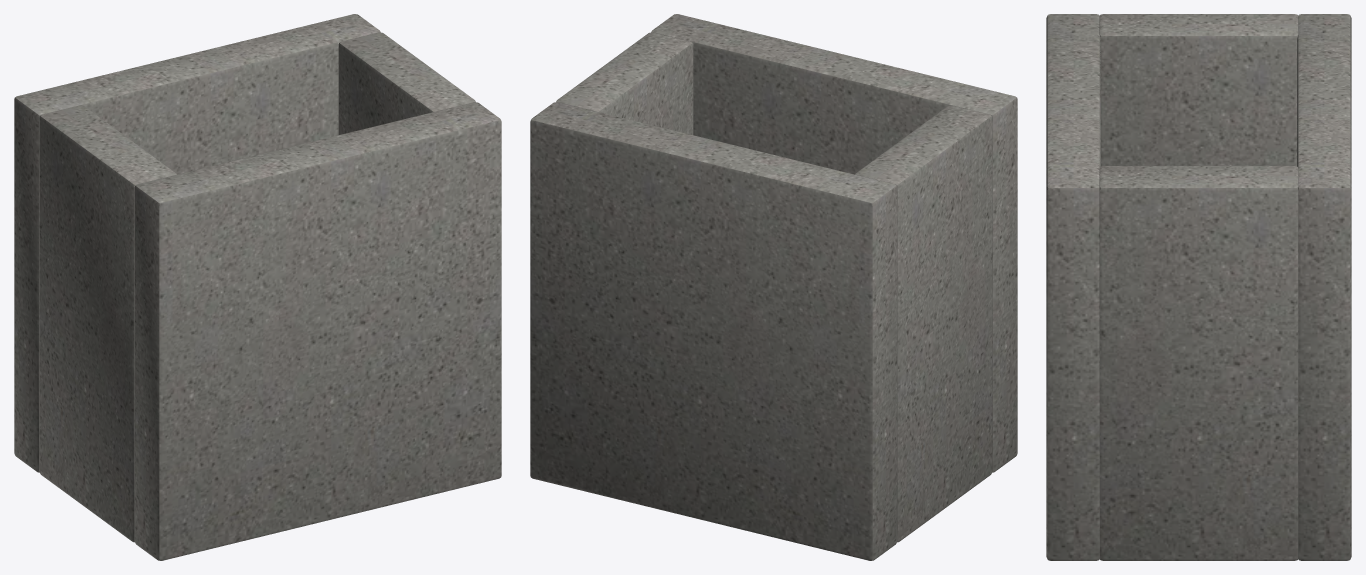
Rendered from ALV-BCO-002.glb.
The picture shows the model from 3 angles, left to right: view 1: azimuth 30°, elevation 25°; view 2: azimuth 150°, elevation 25°; view 3: azimuth 270°, elevation 25°; orthographic projection. The views are drawn at different scales.
Visible parts, largest first — view 1: ALV-BCO-002_pf1, ALV-BCO-002_t0, ALV-BCO-002_pf2, ALV-BCO-002_t1; view 2: ALV-BCO-002_pf2, ALV-BCO-002_t0, ALV-BCO-002_pf1, ALV-BCO-002_t1; view 3: ALV-BCO-002_t1, ALV-BCO-002_t0, ALV-BCO-002_pf1, ALV-BCO-002_pf2.
Boxes of the visible parts, <box> form: ALV-BCO-002_pf1: <box>134,102,501,560</box>; ALV-BCO-002_t0: <box>39,105,176,542</box>; ALV-BCO-002_pf2: <box>14,14,380,472</box>; ALV-BCO-002_t1: <box>338,32,475,134</box>; ALV-BCO-002_pf2: <box>530,102,897,560</box>; ALV-BCO-002_t0: <box>855,105,992,542</box>; ALV-BCO-002_pf1: <box>651,14,1017,472</box>; ALV-BCO-002_t1: <box>556,32,693,134</box>; ALV-BCO-002_t1: <box>1099,166,1298,560</box>; ALV-BCO-002_t0: <box>1099,14,1298,166</box>; ALV-BCO-002_pf1: <box>1046,14,1100,560</box>; ALV-BCO-002_pf2: <box>1297,14,1351,560</box>.
Bounding box in the file's own units: 0.19 × 0.19 × 0.14.
Materials: 1 (1 with a texture image).
